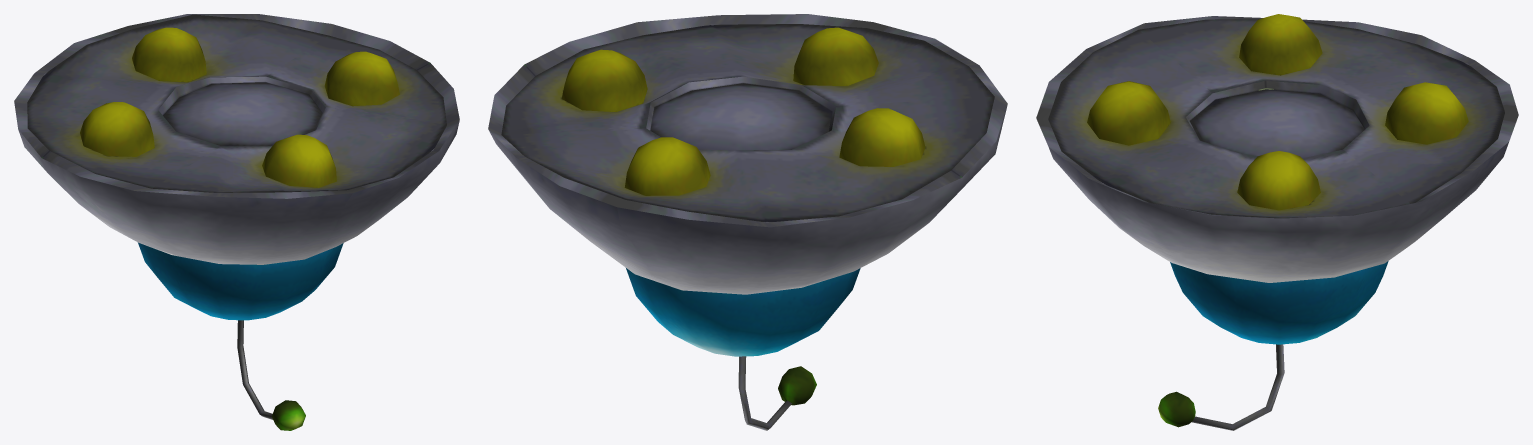
File: ufo.obj
3 renders of one model, left to right at view 1: azimuth 30°, elevation 25°; view 2: azimuth 150°, elevation 25°; view 3: azimuth 270°, elevation 25°, orthographic. The views are drawn at different scales.
Parts seen in each view (by area): view 1: rdmobj00, rdmobj01; view 2: rdmobj00, rdmobj01; view 3: rdmobj00, rdmobj01.
Part boxes in pixels (<box>): rdmobj00: <box>18,14,459,264</box>; rdmobj01: <box>14,14,459,430</box>; rdmobj00: <box>488,24,1006,294</box>; rdmobj01: <box>488,14,1007,430</box>; rdmobj00: <box>1048,19,1508,282</box>; rdmobj01: <box>1036,14,1518,430</box>.
Size of the model in its own units: 10886 by 8744 by 10986.
Materials: 2 (2 with a texture image).
